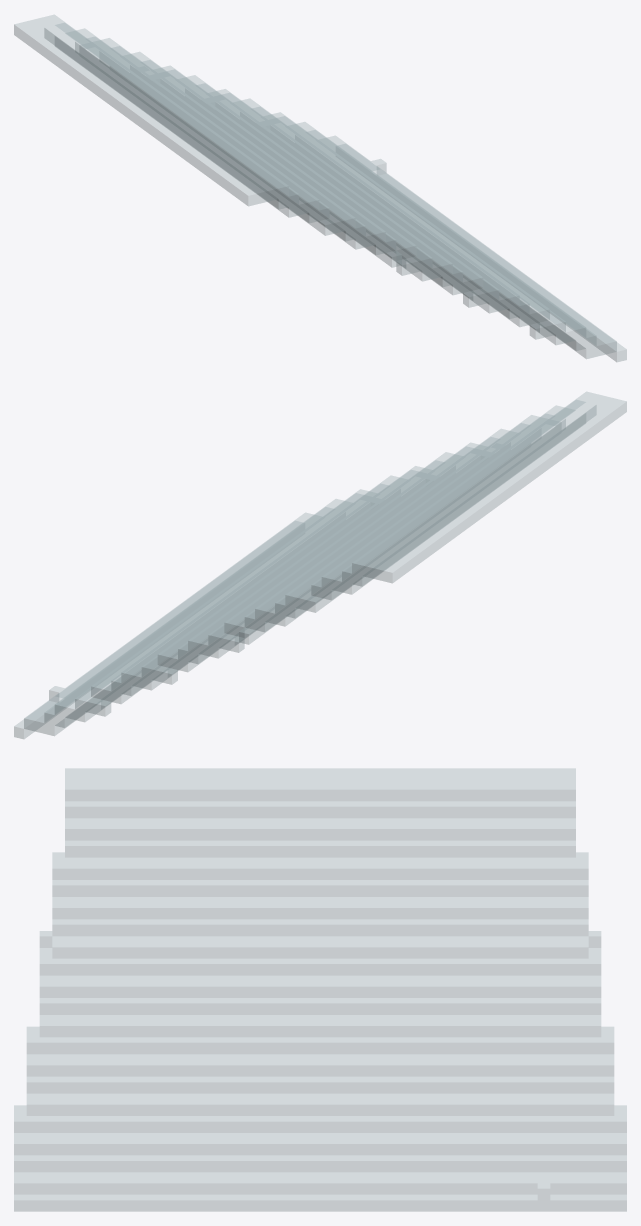
Rendered from minivan_windscreen.glb.
3 renders of one model, top to bottom at view 1: azimuth 30°, elevation 25°; view 2: azimuth 150°, elevation 25°; view 3: azimuth 270°, elevation 25°, orthographic. The views are drawn at different scales.
Parts seen in each view (by area): view 1: body:compound; view 2: body:compound; view 3: body:compound.
Part boxes in pixels (left/top/right/bottom): body:compound: left=14, top=14, right=626, bottom=361; body:compound: left=14, top=391, right=626, bottom=738; body:compound: left=14, top=768, right=626, bottom=1211.
Bounding box in the file's own units: 1.09 × 0.6875 × 1.5.
